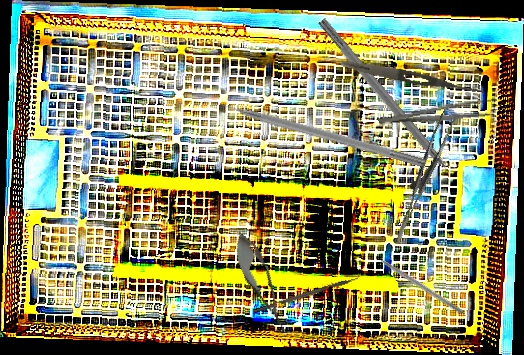Chopper: (251, 270, 363, 314)
Dressing Forceps: (340, 57, 486, 98), (377, 95, 499, 132)
Hook Surgical: (315, 17, 466, 192), (367, 248, 465, 316)
Micro Scissor: (225, 225, 298, 341)
Pusher: (202, 92, 428, 169)
Tissue Forceps: (375, 110, 468, 242)
